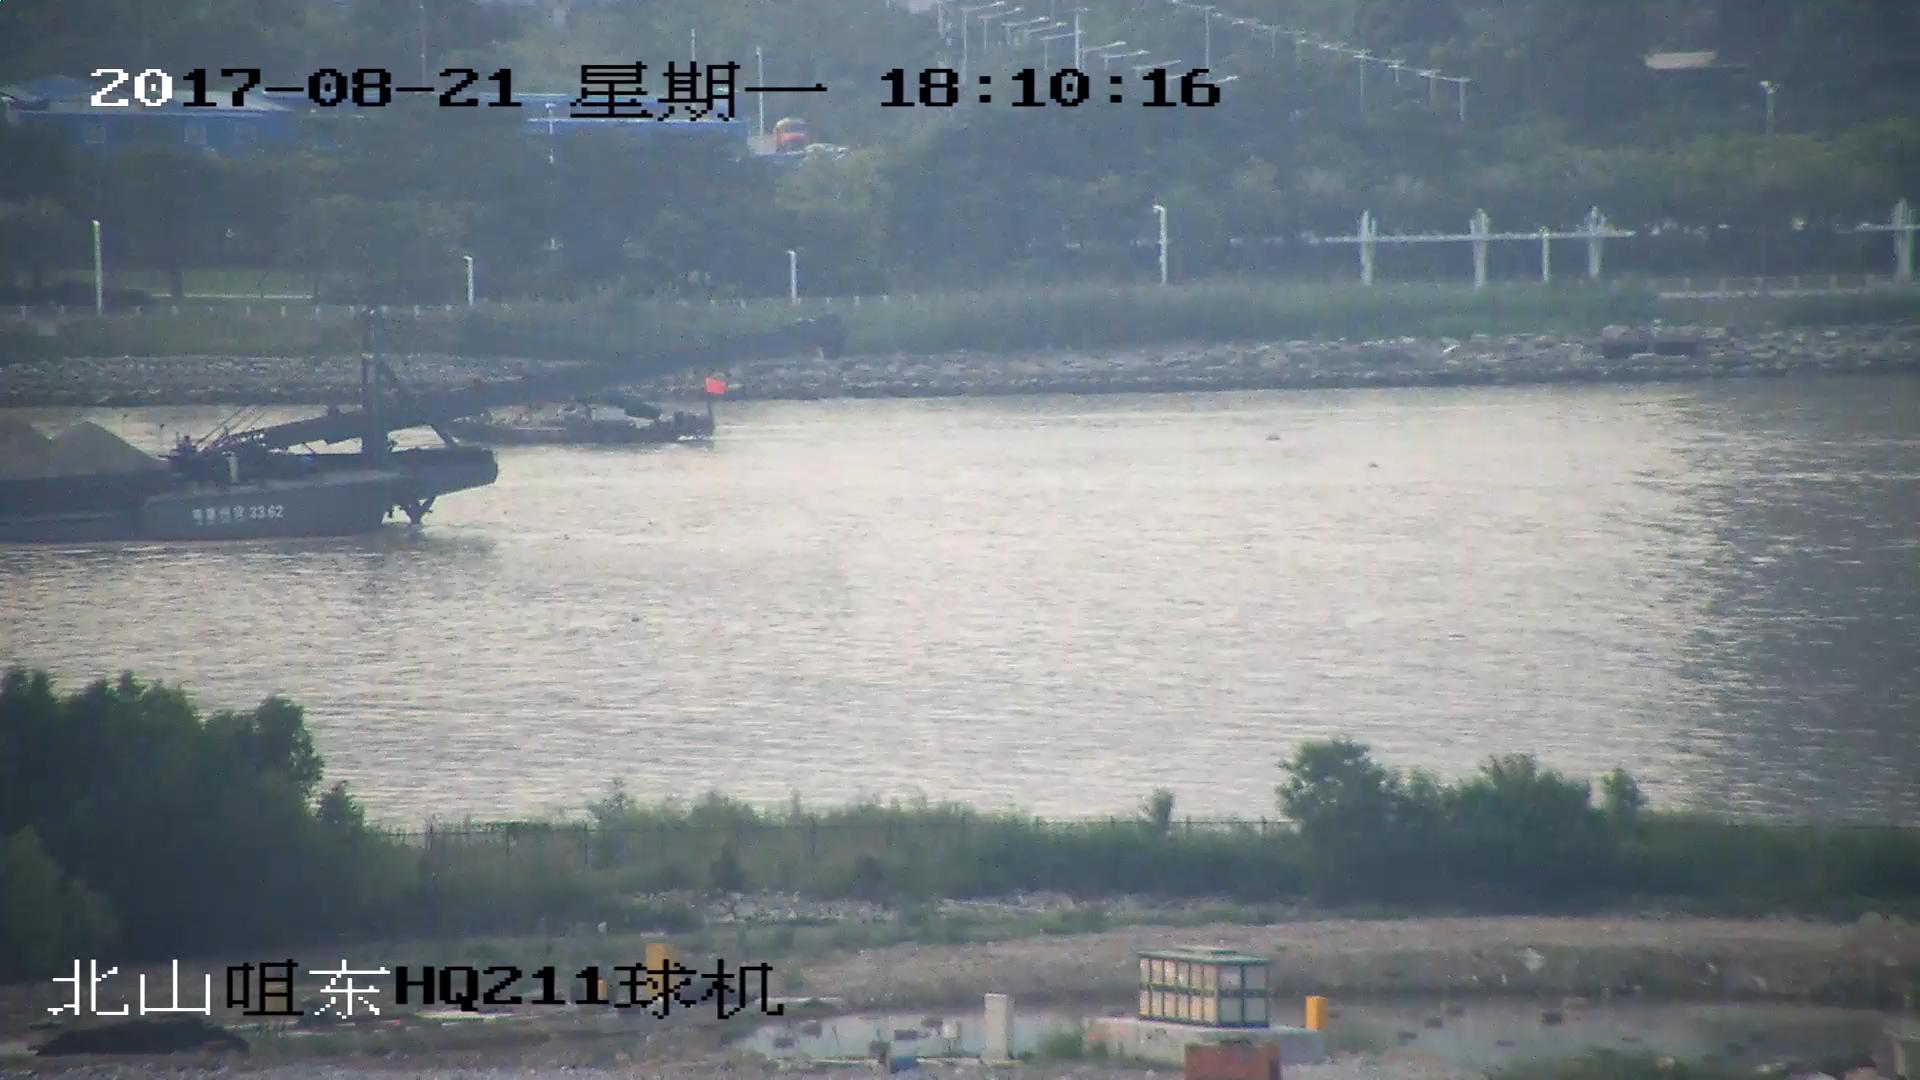fishing boat: (440, 374, 723, 446)
ore carrier: (1, 320, 835, 538)
